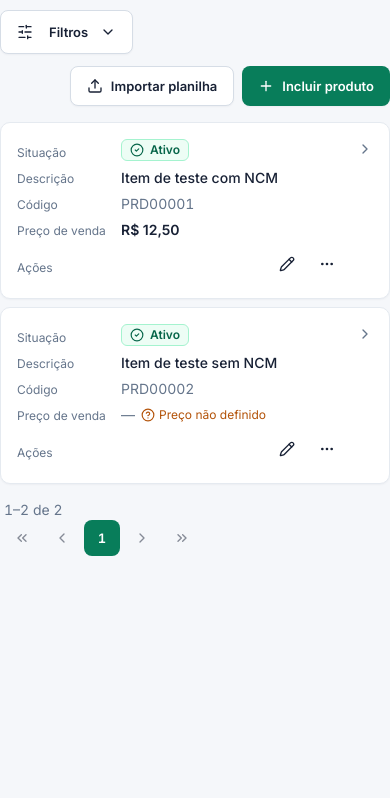
Test: Cadastro de produtos — lista, painel e NCM ausente › mostra a seção "Vínculos do produto" abaixo da tabela só quando há produto selecionado
Expected: the heading "Vínculos do produto" is not shown
What coordinates should you click on to do the following:
click the text "Item de teste com NCM"
I would click on:
 (200, 178)
Its box is [121,169,278,186].
(page scrolled)
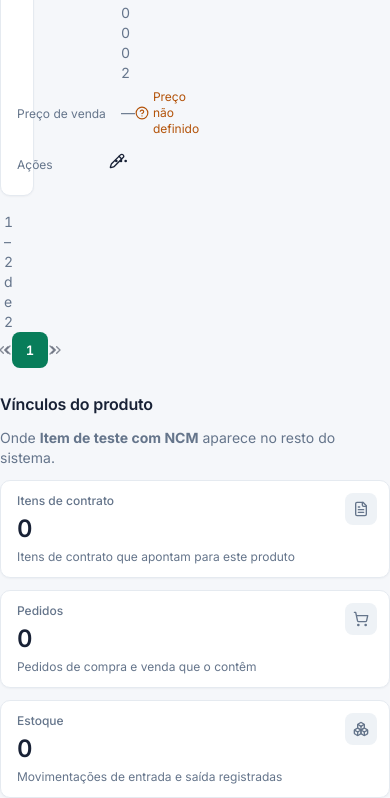
Expected: the heading "Vínculos do produto" is shown, [0,392,153,416]
